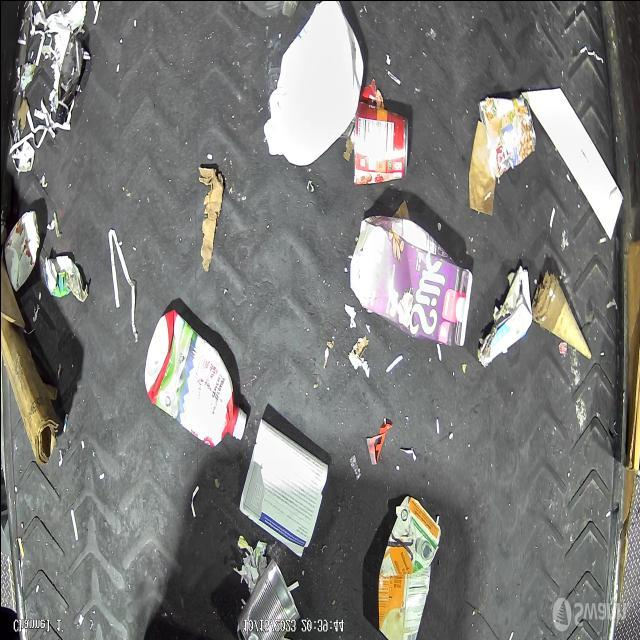can: (238, 549, 310, 640)
milk_jug: (261, 0, 366, 167), (346, 104, 414, 194)
